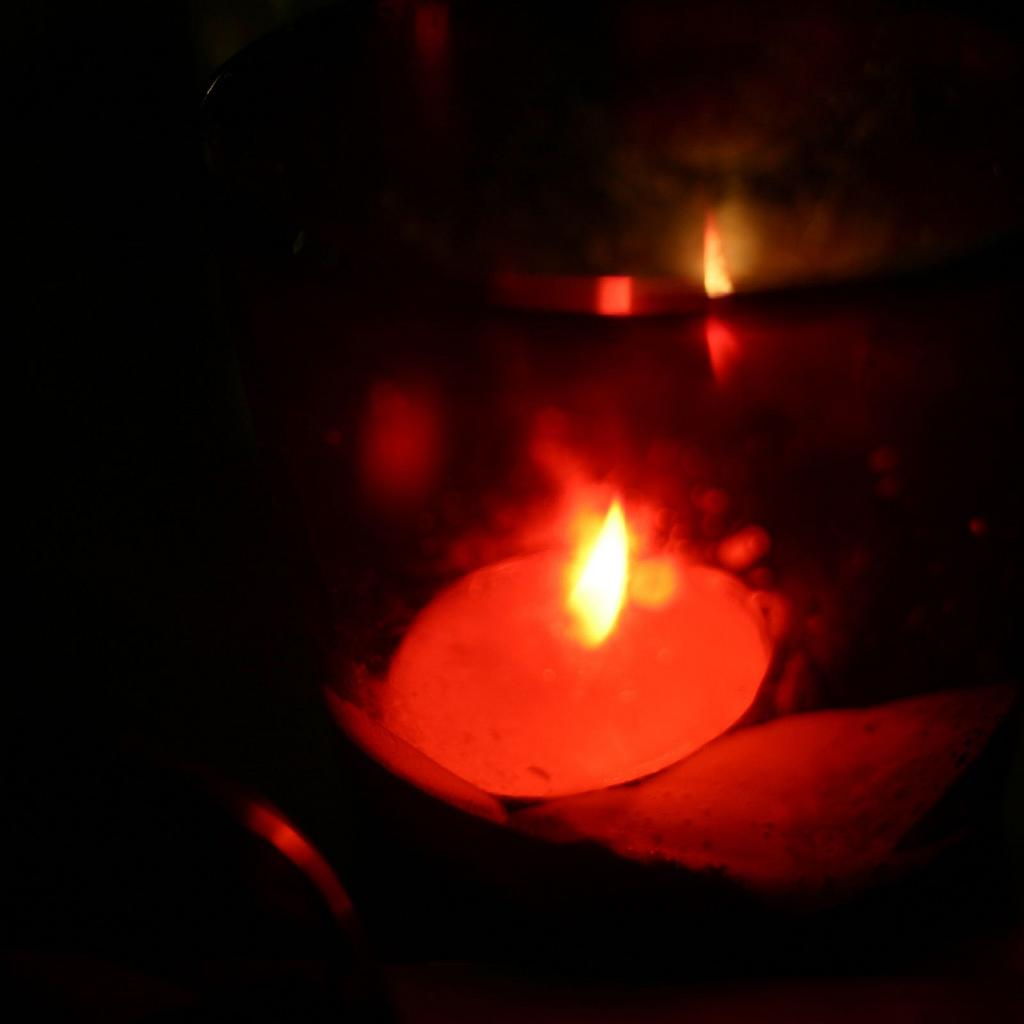fire: (575, 530, 632, 612)
